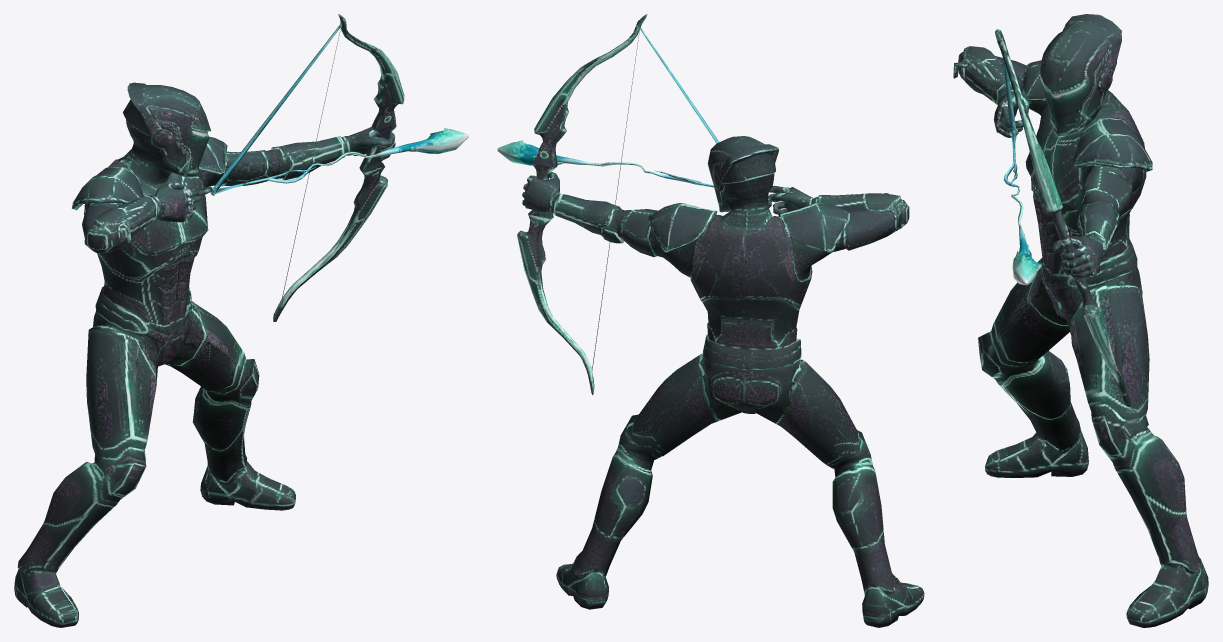
File: archer_tripo_2.0.glb
3 views of the same model, side by side, from view 1: azimuth 30°, elevation 25°; view 2: azimuth 150°, elevation 25°; view 3: azimuth 270°, elevation 25° (orthographic). The views are drawn at different scales.
Parts seen in each view (by area): view 1: tripo_node_384aa73c-ed8f-4d5e-9de0-bc5dafb4c1dd; view 2: tripo_node_384aa73c-ed8f-4d5e-9de0-bc5dafb4c1dd; view 3: tripo_node_384aa73c-ed8f-4d5e-9de0-bc5dafb4c1dd.
Boxes of the visible parts, bbox=[...] form: tripo_node_384aa73c-ed8f-4d5e-9de0-bc5dafb4c1dd: bbox=[14, 14, 468, 627]; tripo_node_384aa73c-ed8f-4d5e-9de0-bc5dafb4c1dd: bbox=[497, 14, 924, 627]; tripo_node_384aa73c-ed8f-4d5e-9de0-bc5dafb4c1dd: bbox=[953, 14, 1208, 627].
Size of the model in its own units: 0.8364 by 0.9995 by 0.394.
1 material, 1 textured.
